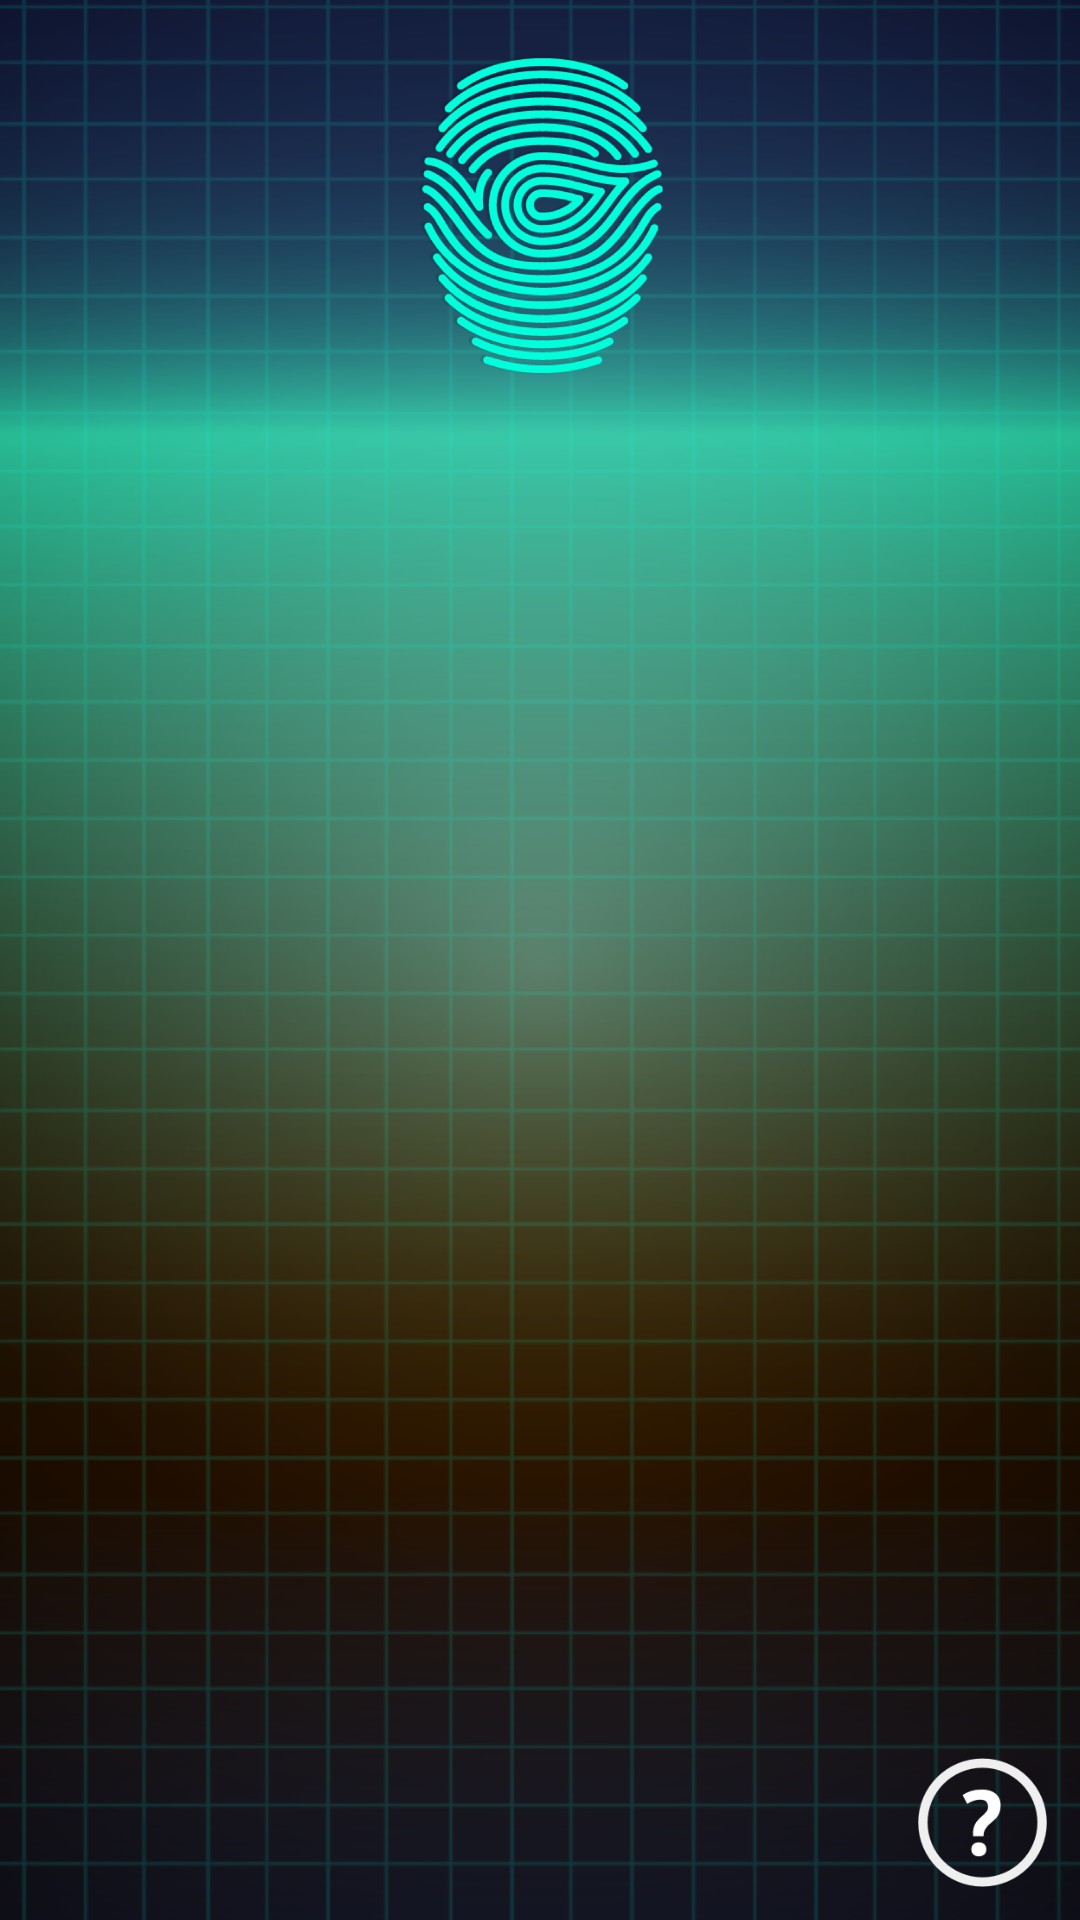

Icon bounding boxes for this 1080 × 1920 phone screenshot, format {"x1": x1, "y1": y1, "x2": x2, "y2": y2}:
question: {"x1": 918, "y1": 1758, "x2": 1047, "y2": 1887}
